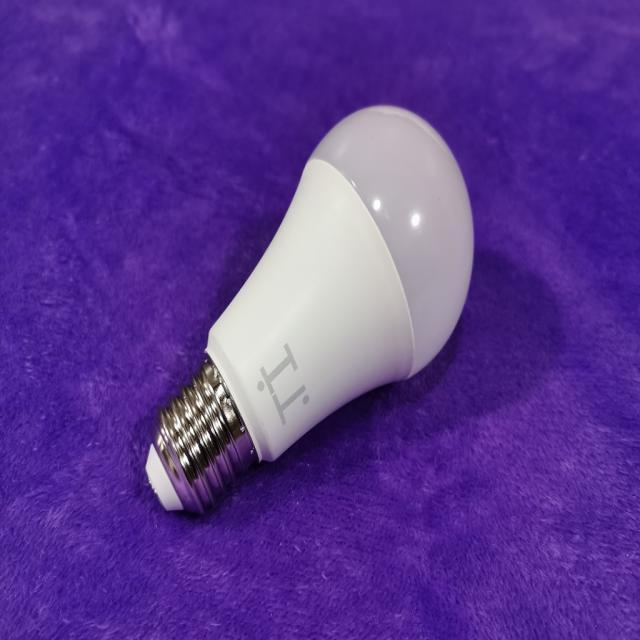light_bulb: (131, 72, 495, 538)
